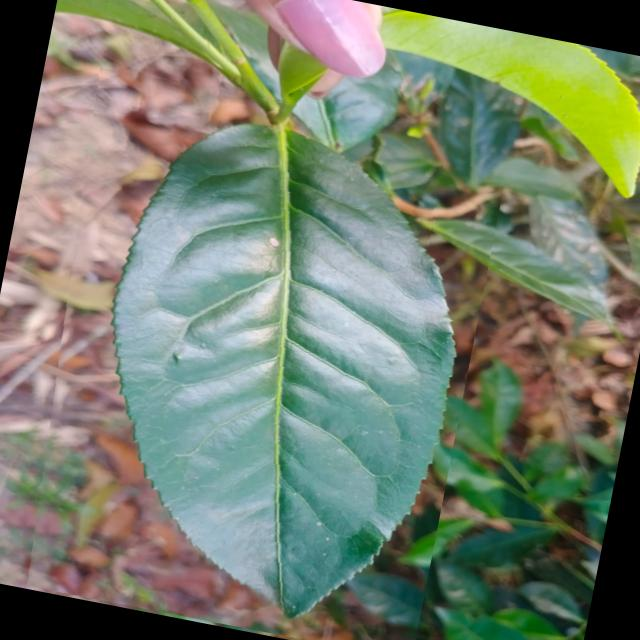Category D(7+ days, Not for Tea): (0, 64, 511, 640)
